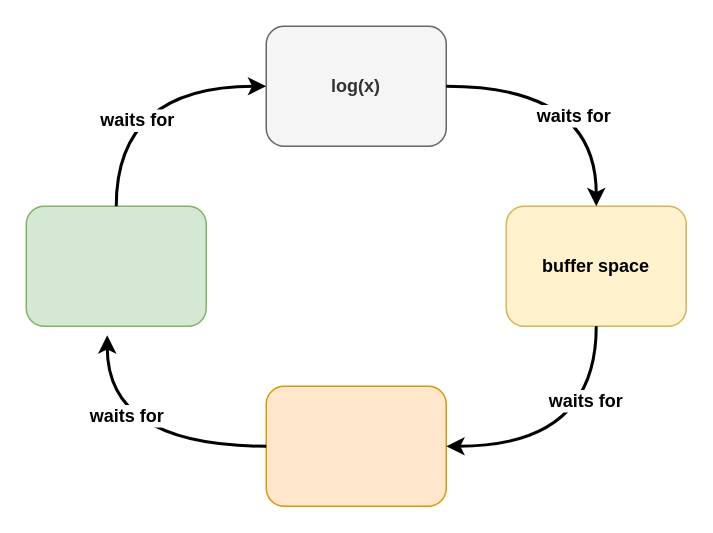
The diagram is 713 pixels wide and 533 high, and some of its shapes have lost their labels. The centre of each missing label's shape, as x and y in pixels:
"acquire semaphore" belongs at point 355,445.
"release semaphore" belongs at point 115,265.
